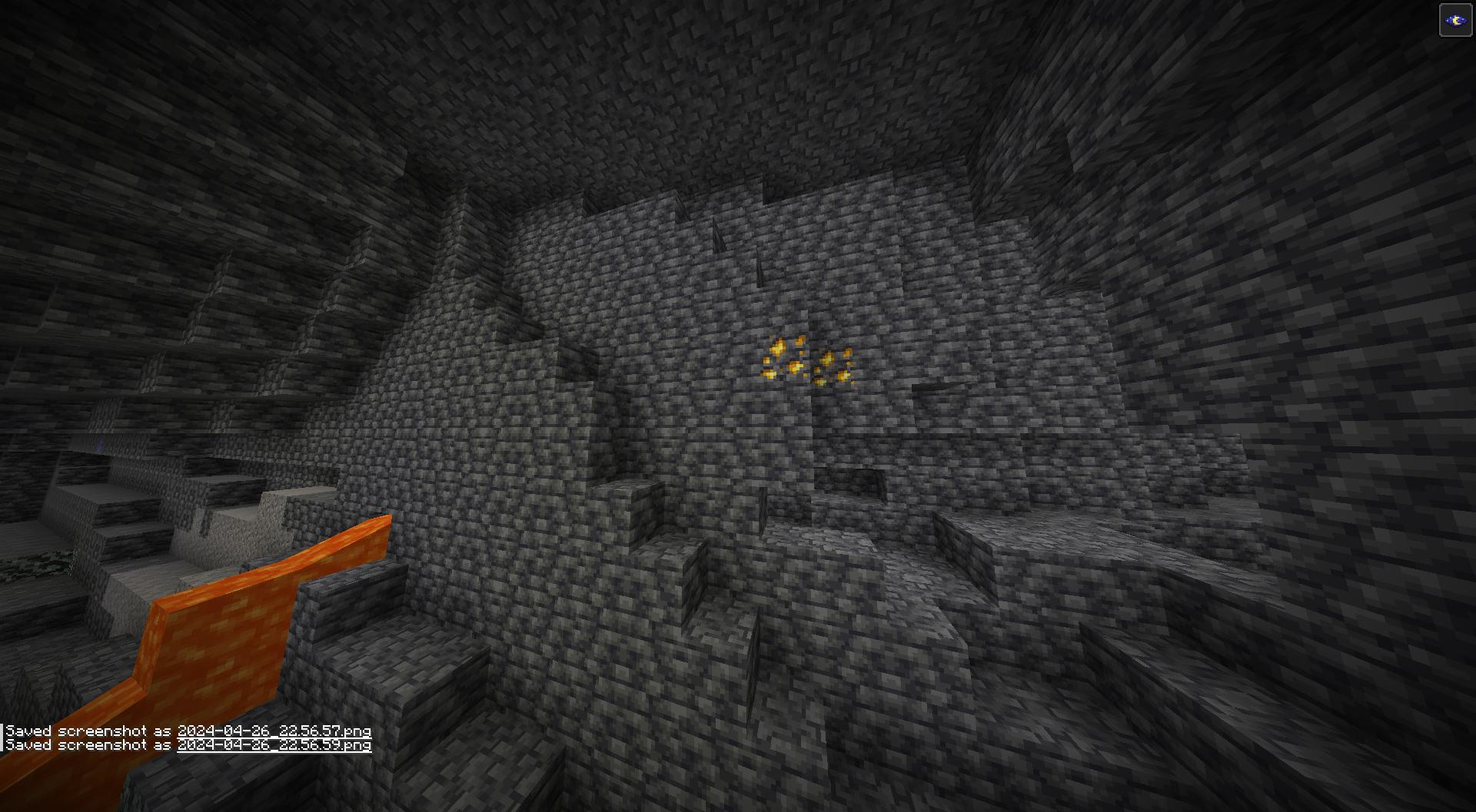gold ore: (754, 329, 809, 380), (812, 342, 859, 388)
